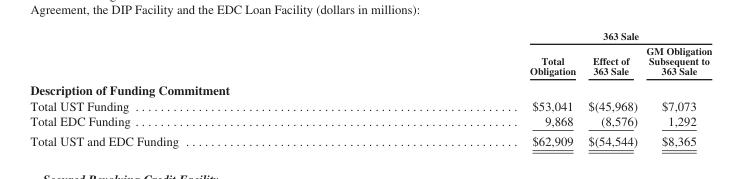table: (29, 29, 711, 147)
table column: (29, 29, 353, 147), (353, 29, 581, 147), (641, 29, 711, 147), (581, 29, 641, 147)
table column header: (29, 29, 711, 79)
table projected row header: (29, 79, 711, 97)
table row: (29, 42, 711, 79), (29, 79, 711, 97), (29, 112, 711, 130), (29, 130, 711, 147), (29, 97, 711, 112), (29, 29, 711, 42)
table spanning cell: (353, 29, 711, 42)
